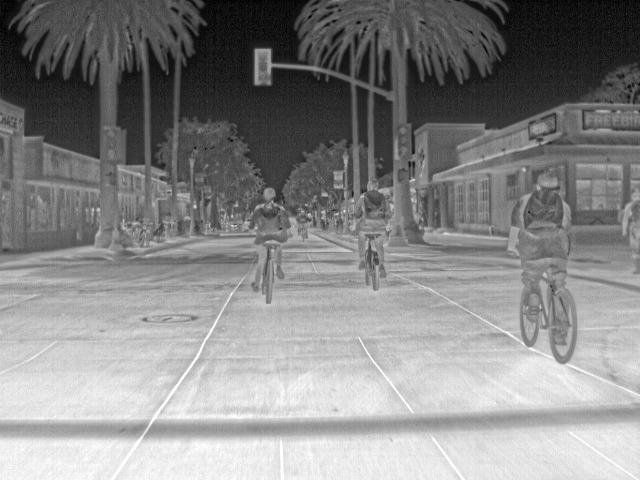car: (242, 214, 255, 232), (229, 222, 243, 234)
person: (506, 172, 570, 322), (248, 184, 289, 292), (356, 176, 393, 278), (621, 188, 639, 274), (294, 208, 311, 227), (333, 211, 345, 233)
